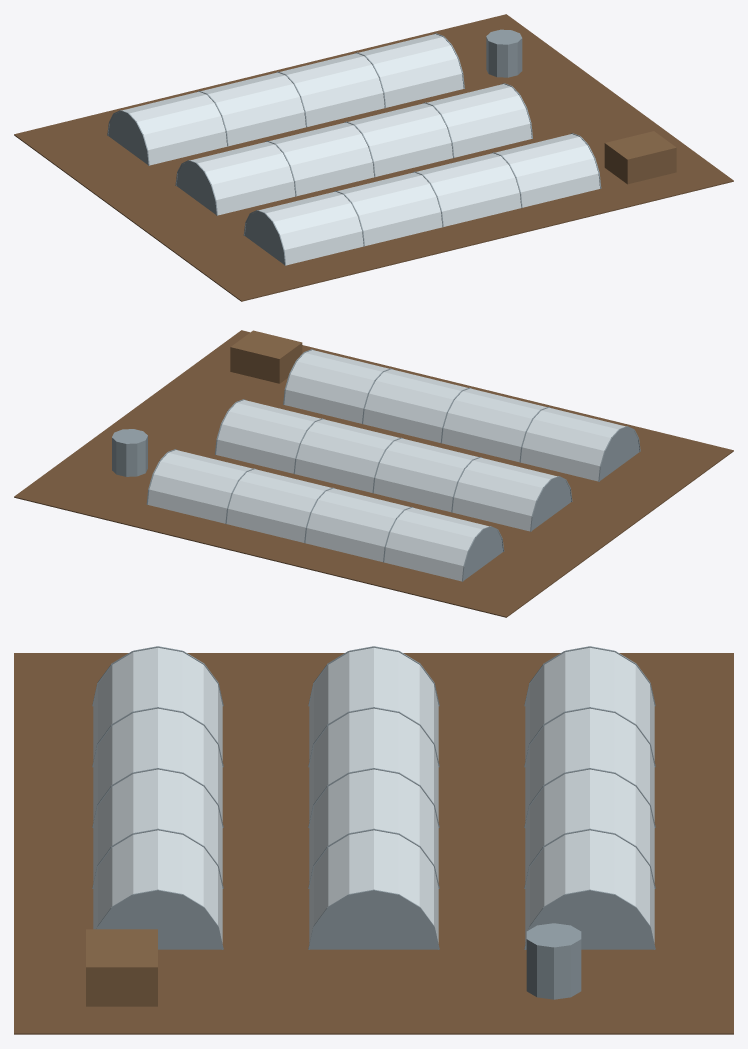
The model's file is Kir_alan_sera_1_Hafif.fbx.
3 views of the same model, one above another, from view 1: azimuth 30°, elevation 25°; view 2: azimuth 150°, elevation 25°; view 3: azimuth 270°, elevation 25° (orthographic). The views are drawn at different scales.
Parts seen in each view (by area): view 1: Kir_alan_sera_1_Hafif; view 2: Kir_alan_sera_1_Hafif; view 3: Kir_alan_sera_1_Hafif.
Boxes of the visible parts, <box> form: Kir_alan_sera_1_Hafif: <box>14,14,733,301</box>; Kir_alan_sera_1_Hafif: <box>14,330,733,617</box>; Kir_alan_sera_1_Hafif: <box>14,646,733,1034</box>.
Size of the model in its own units: 50 by 3.75 by 40.
